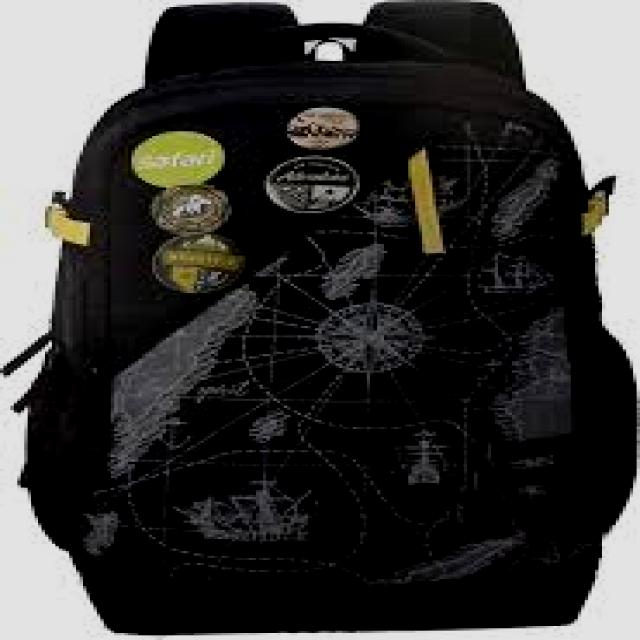backpack: (2, 1, 638, 634)
